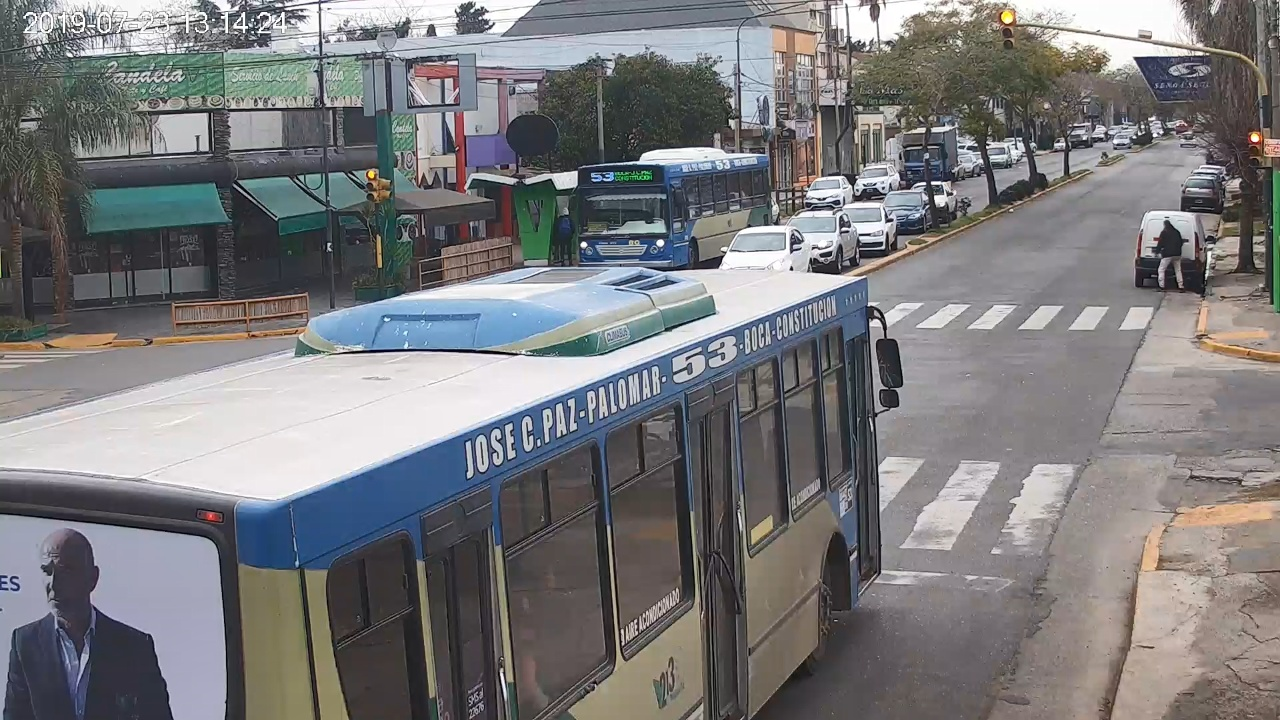bus: (1, 265, 905, 720)
traffic light: (1001, 10, 1015, 49), (1249, 133, 1262, 167)
